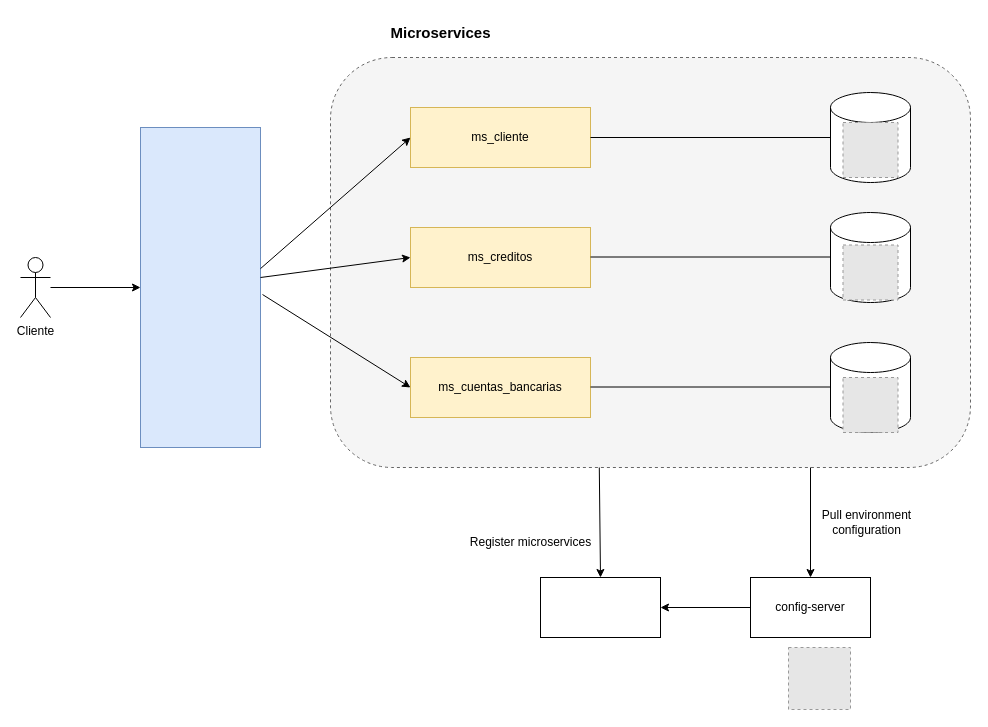
The diagram is 988 pixels wide and 727 high, and some of its shapes have lost their labels. Grey dashed boxes stand in for pictures. Here are the shapes that lost their labels. From the top down, the centre of each, then its label:
At pixel 200 287: "API GATEWAY".
At pixel 600 607: "Eureka server".
